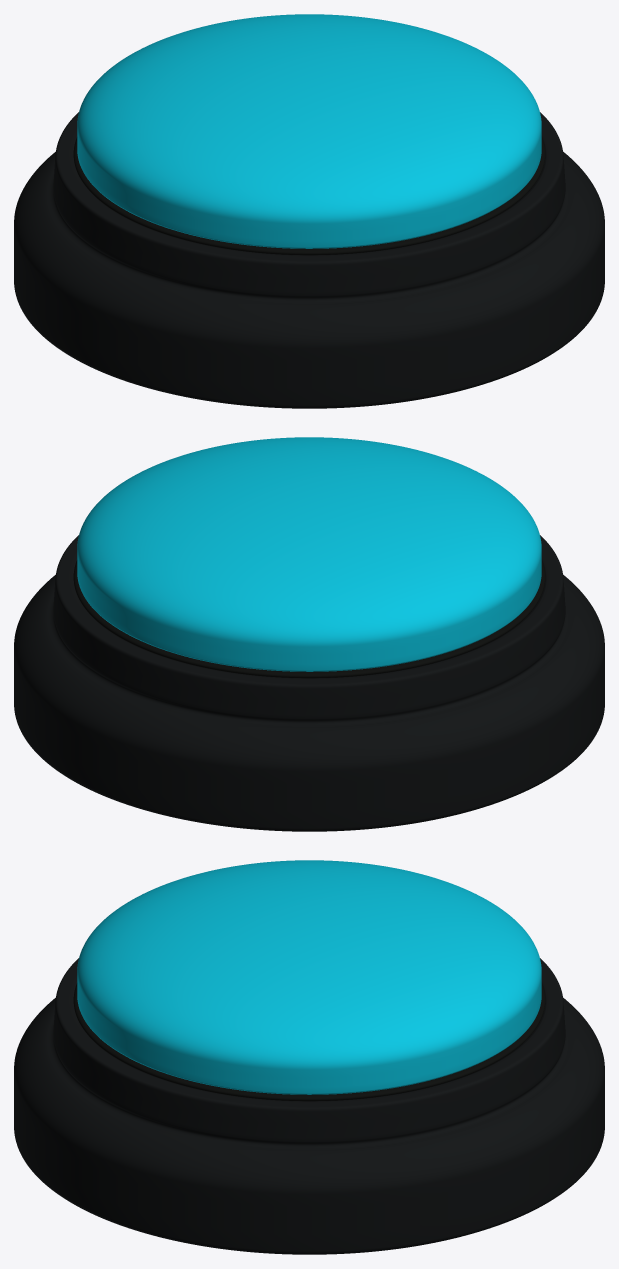
Rendered from blue_button_metric.glb.
3 views of the same model, one above another, from view 1: azimuth 30°, elevation 25°; view 2: azimuth 150°, elevation 25°; view 3: azimuth 270°, elevation 25° (orthographic).
Visible parts, largest first — view 1: Base_Housing, Button_Cap, Button_Seat_Seam; view 2: Base_Housing, Button_Cap, Button_Seat_Seam; view 3: Base_Housing, Button_Cap, Button_Seat_Seam.
Boxes of the visible parts, x1,y1,x2,y2 form: Base_Housing: (14,112,604,408); Button_Cap: (77,14,541,248); Button_Seat_Seam: (73,137,545,255); Base_Housing: (14,535,604,831); Button_Cap: (77,437,541,671); Button_Seat_Seam: (73,560,545,678); Base_Housing: (14,958,604,1254); Button_Cap: (77,860,541,1094); Button_Seat_Seam: (73,983,545,1101).
Size of the model in its own units: 0.088 by 0.035 by 0.088.
